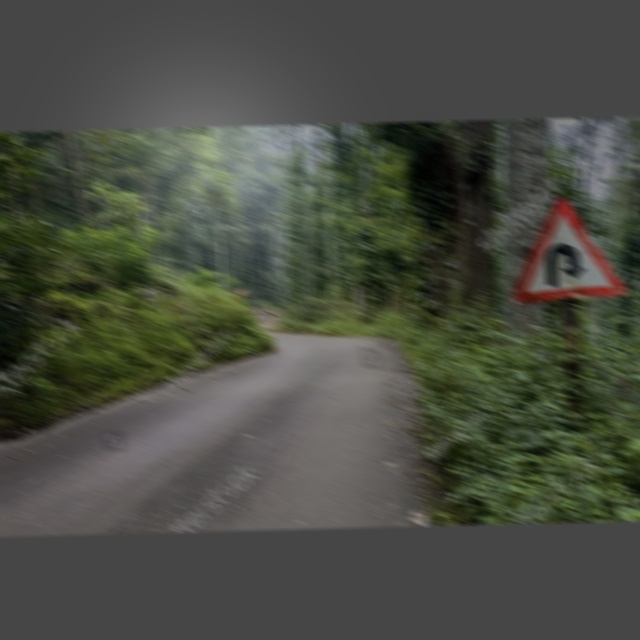Right_Hair_Pin_Bend: (512, 198, 623, 302)
